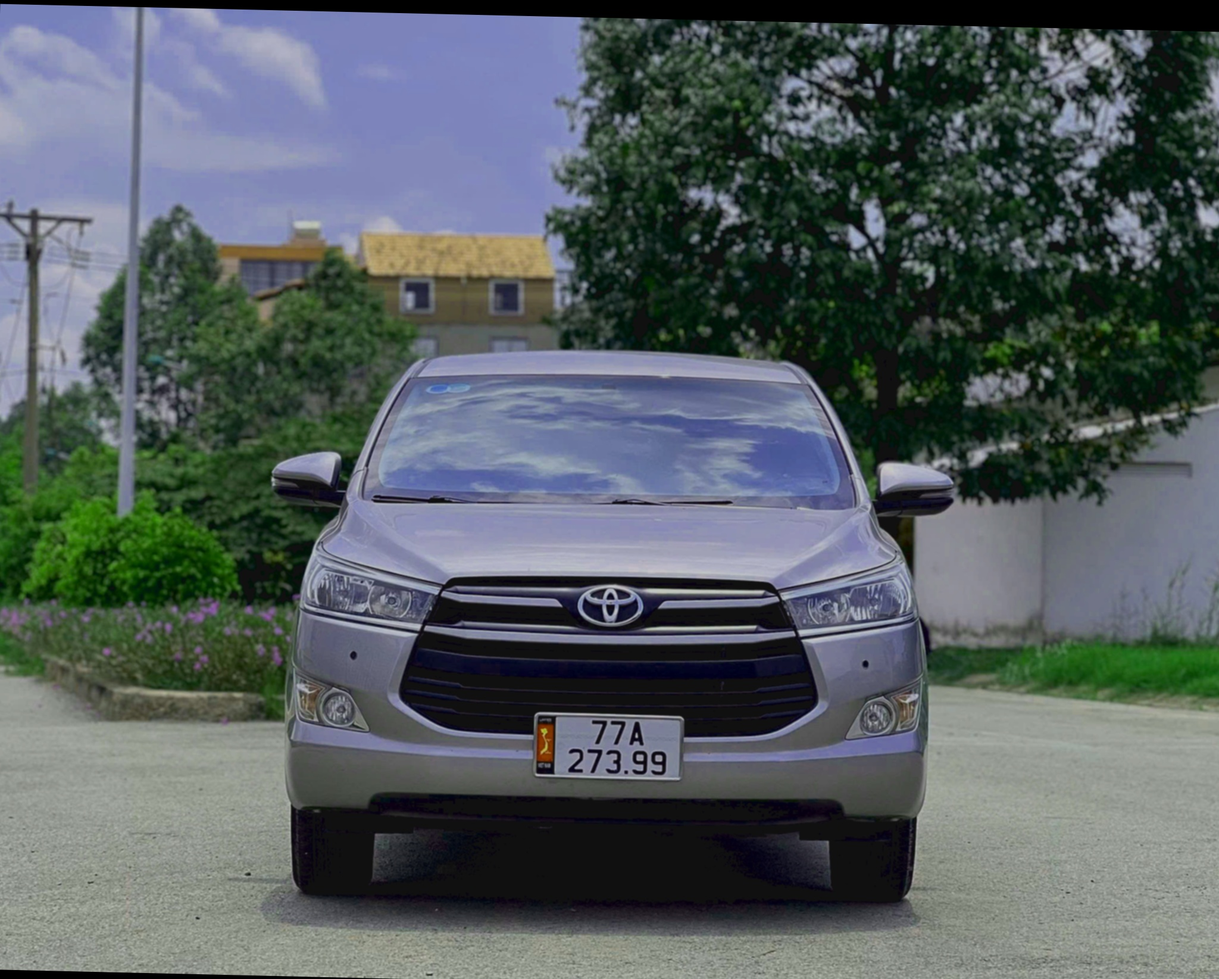Bien-so: (557, 716, 686, 790)
